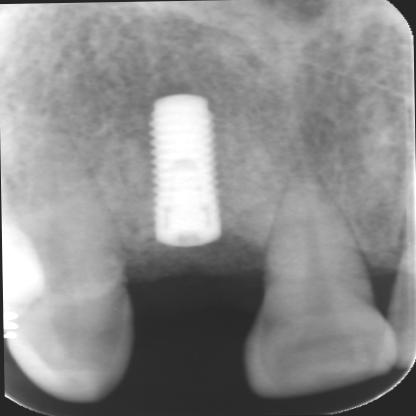ITI: (140, 90, 229, 246)
